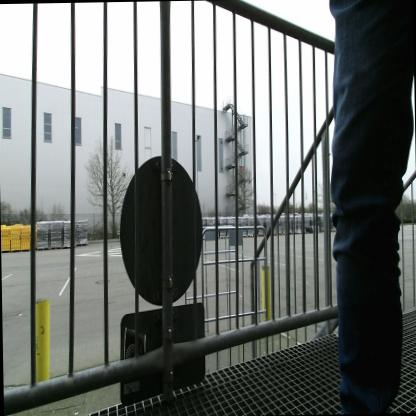pallet: (48, 242, 62, 252), (75, 240, 90, 249), (36, 243, 48, 252), (62, 242, 75, 249), (282, 231, 292, 237), (246, 232, 254, 238), (240, 232, 246, 239), (226, 234, 232, 241), (219, 234, 226, 240), (276, 231, 282, 237), (270, 231, 276, 237), (259, 233, 264, 238), (254, 233, 258, 238)
